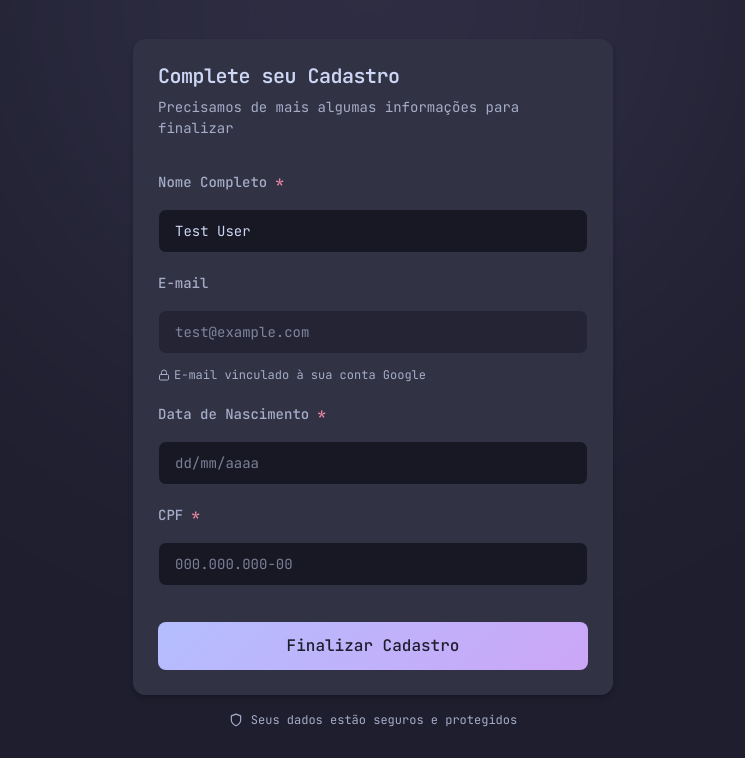
it: RegisterCompleteView › tratamento de erros › deve exibir múltiplos erros de validação
The image size is (745, 758).
Replace the text in the field with id "name" with "Test" at (373, 231), box [158,209,588,253]
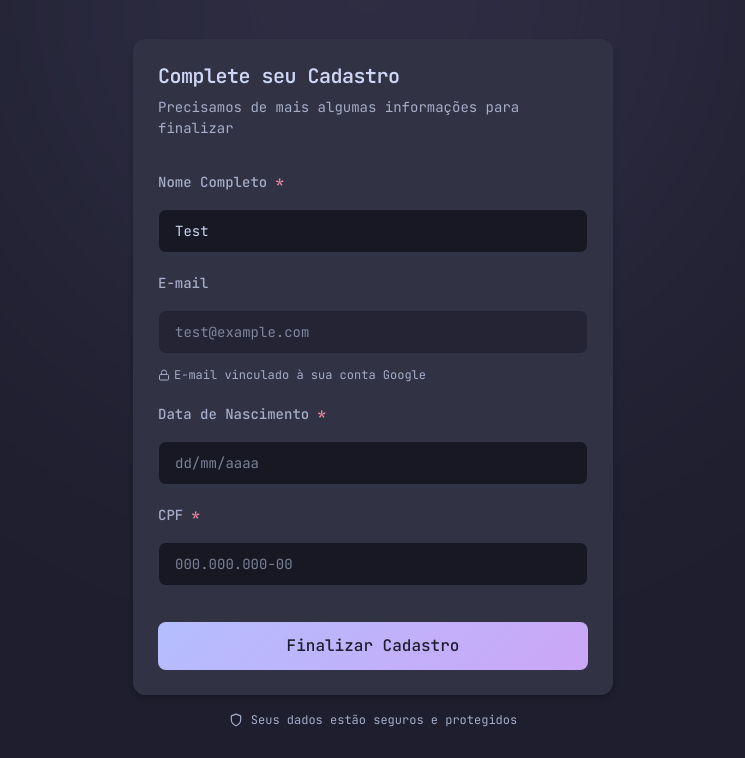
Type "15/05/1990" into the field with id "birth_date" at (373, 463), box [158,441,588,485]
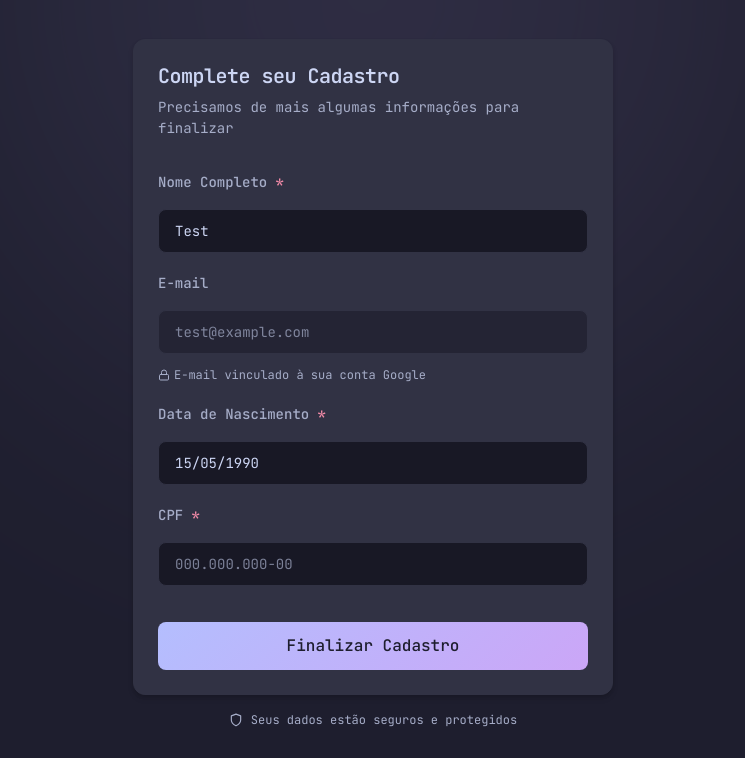
Type "123.456.789-00" into the field with id "cpf" at (373, 564), box [158,542,588,586]
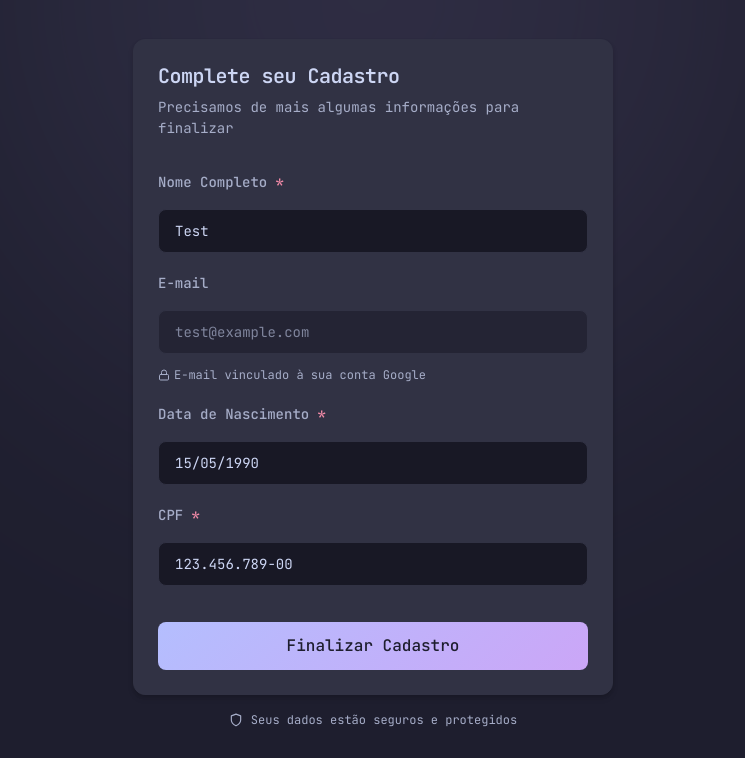
Submit the form, box [158,172,588,670]
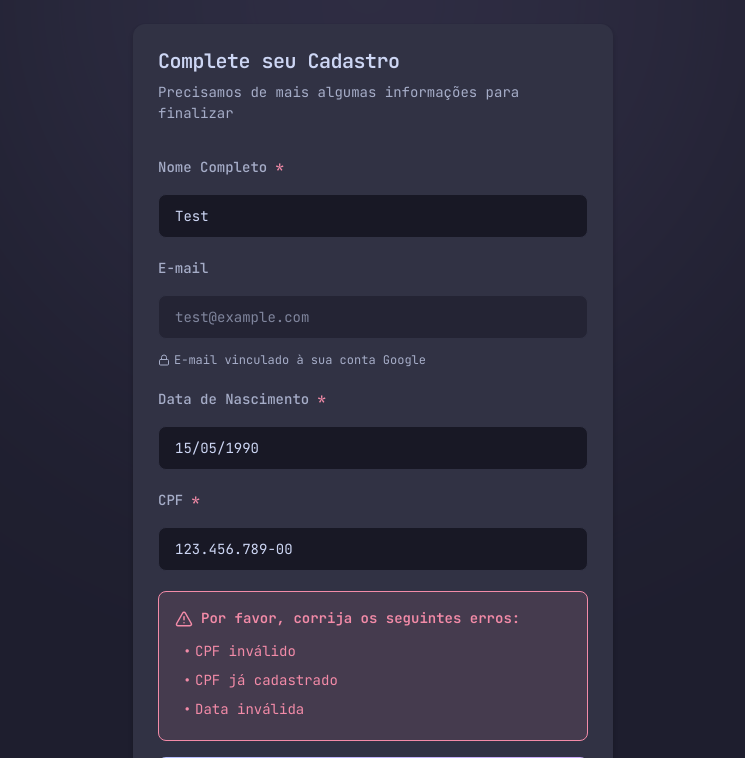
Result: the text "CPF inválido" is shown at [195,642,296,660]
Result: the text "CPF já cadastrado" is shown at [195,671,338,689]
Result: the text "Data inválida" is shown at [195,700,304,718]
